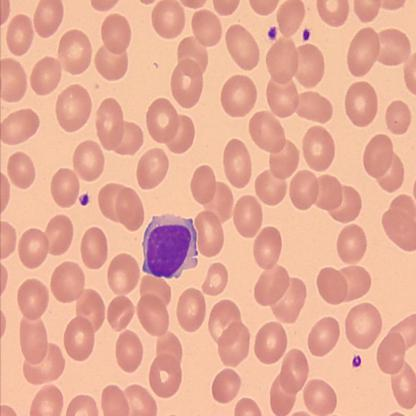Atypical lymphocyte: (142, 214, 202, 278)
